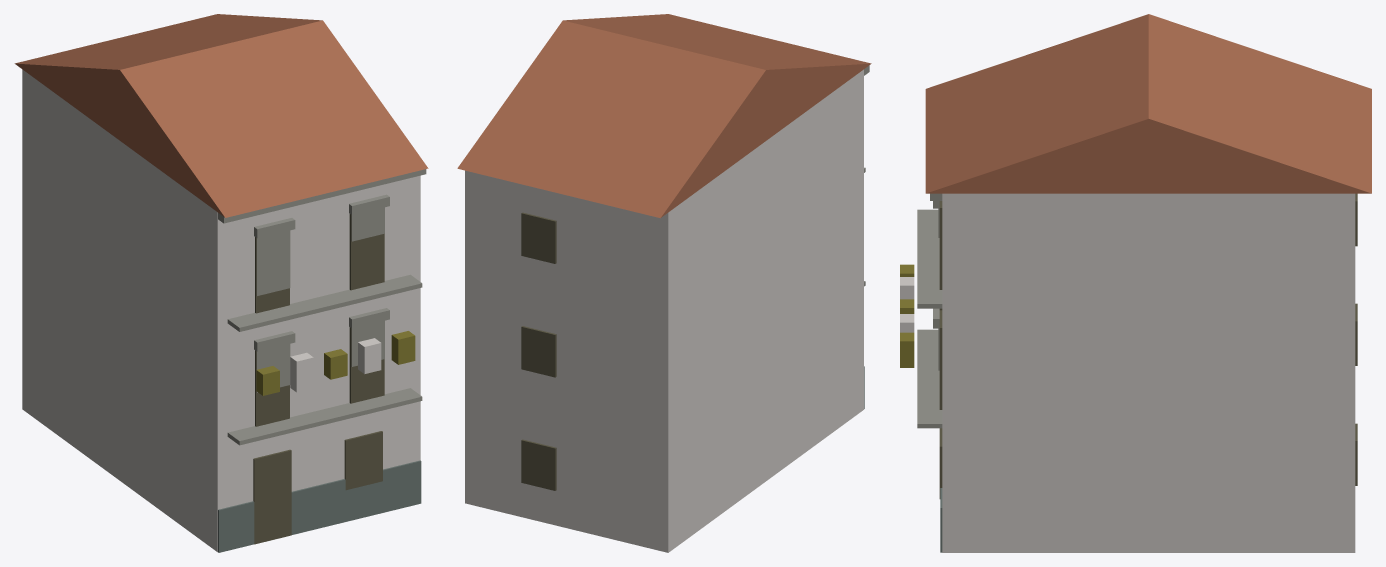
Rendered from SM_TresAlturas_v3_Ropa_LOD1.fbx.
The picture shows the model from 3 angles, left to right: view 1: azimuth 30°, elevation 25°; view 2: azimuth 150°, elevation 25°; view 3: azimuth 270°, elevation 25°; orthographic projection. The views are drawn at different scales.
Visible parts, largest first — view 1: SM_pueblo_valenciano_v13_LOD1; view 2: SM_pueblo_valenciano_v13_LOD1; view 3: SM_pueblo_valenciano_v13_LOD1.
Part boxes in pixels (x1=…): SM_pueblo_valenciano_v13_LOD1: x1=14, y1=14, x2=428, y2=552; SM_pueblo_valenciano_v13_LOD1: x1=457, y1=14, x2=871, y2=552; SM_pueblo_valenciano_v13_LOD1: x1=900, y1=14, x2=1371, y2=552.
Size of the model in its own units: 6 by 11.6 by 11.42.
